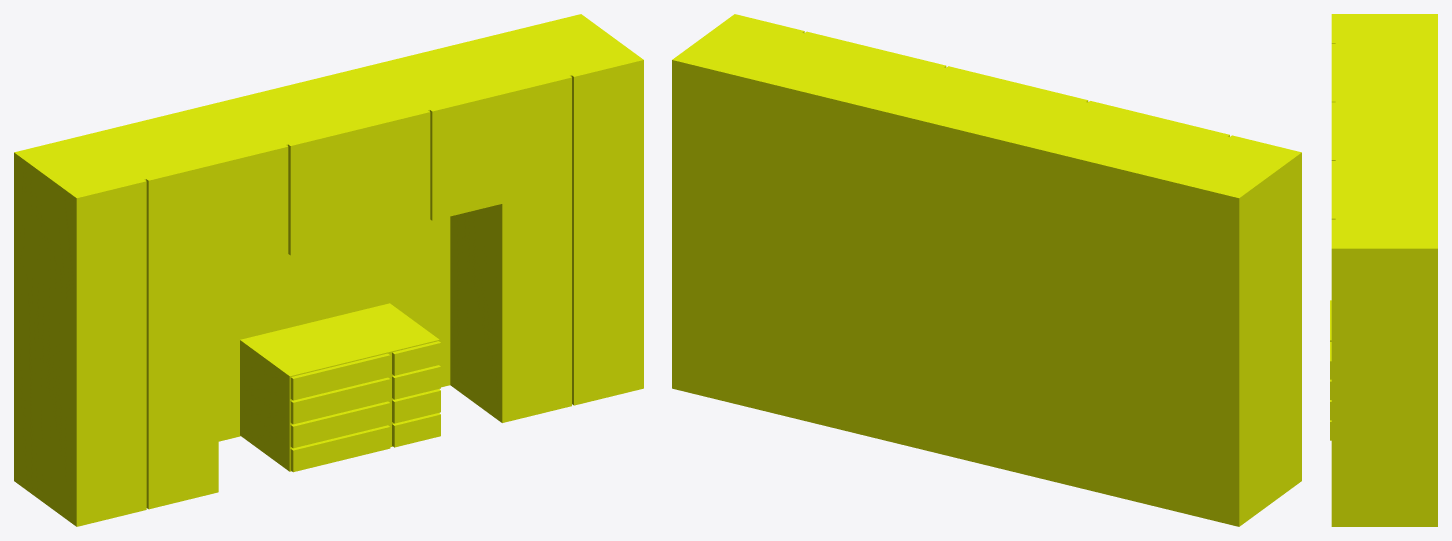
File: Wardrobe3.FBX
3 renders of one model, left to right at view 1: azimuth 30°, elevation 25°; view 2: azimuth 150°, elevation 25°; view 3: azimuth 270°, elevation 25°, orthographic. The views are drawn at different scales.
Parts seen in each view (by area): view 1: Box016; view 2: Box016; view 3: Box016.
Part boxes in pixels (x1=…): Box016: x1=14, y1=14, x2=643, y2=526; Box016: x1=672, y1=14, x2=1301, y2=526; Box016: x1=1330, y1=14, x2=1437, y2=526.
Bounding box in the file's own units: 6.42 × 3.55 × 1.25.
